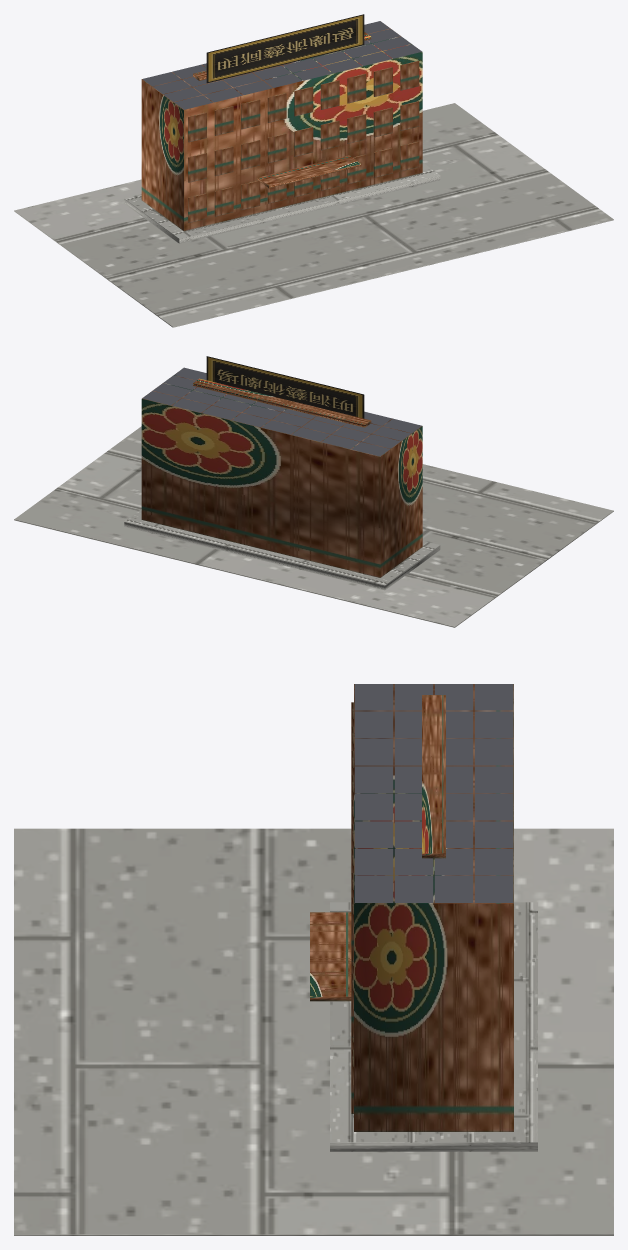
3 views of the same model, one above another, from view 1: azimuth 30°, elevation 25°; view 2: azimuth 150°, elevation 25°; view 3: azimuth 270°, elevation 25° (orthographic). The views are drawn at different scales.
Parts seen in each view (by area): view 1: 11140_02_04519_012_01_L2__plinth_forecourt, 11140_02_04519_012_02_L2__body, 11140_02_04519_012_05_L2__windows, 11140_02_04519_012_03_L2__roof, 11140_02_04519_012_04_L2__sign; view 2: 11140_02_04519_012_02_L2__body, 11140_02_04519_012_01_L2__plinth_forecourt, 11140_02_04519_012_03_L2__roof, 11140_02_04519_012_04_L2__sign; view 3: 11140_02_04519_012_01_L2__plinth_forecourt, 11140_02_04519_012_02_L2__body, 11140_02_04519_012_03_L2__roof, 11140_02_04519_012_05_L2__windows.
Part boxes in pixels (<box>): 11140_02_04519_012_01_L2__plinth_forecourt: <box>14,103,613,327</box>; 11140_02_04519_012_02_L2__body: <box>141,28,422,231</box>; 11140_02_04519_012_05_L2__windows: <box>188,60,419,222</box>; 11140_02_04519_012_03_L2__roof: <box>142,21,421,109</box>; 11140_02_04519_012_04_L2__sign: <box>206,14,364,83</box>; 11140_02_04519_012_02_L2__body: <box>141,375,422,577</box>; 11140_02_04519_012_01_L2__plinth_forecourt: <box>14,426,613,627</box>; 11140_02_04519_012_03_L2__roof: <box>142,367,421,456</box>; 11140_02_04519_012_04_L2__sign: <box>206,356,364,418</box>; 11140_02_04519_012_01_L2__plinth_forecourt: <box>14,828,613,1235</box>; 11140_02_04519_012_02_L2__body: <box>310,684,513,1131</box>; 11140_02_04519_012_03_L2__roof: <box>354,684,513,902</box>; 11140_02_04519_012_05_L2__windows: <box>351,702,353,1113</box>.
Size of the model in its own units: 48 by 16.8 by 30.
Materials: 5 (5 with a texture image).
